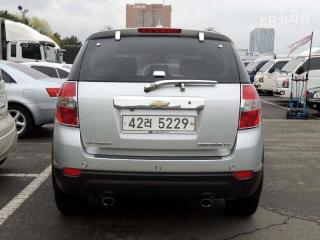2: (173, 117, 182, 129), (166, 117, 174, 130), (136, 117, 144, 129)
4: (128, 117, 136, 129)
5: (158, 116, 166, 130)
9: (182, 117, 190, 130)
plate: (117, 111, 201, 136)
러: (143, 117, 154, 129)
